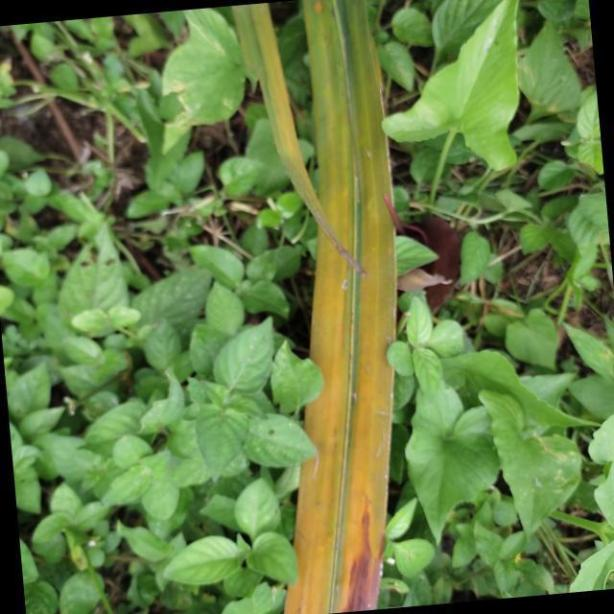Megnesium: (284, 0, 397, 614)
